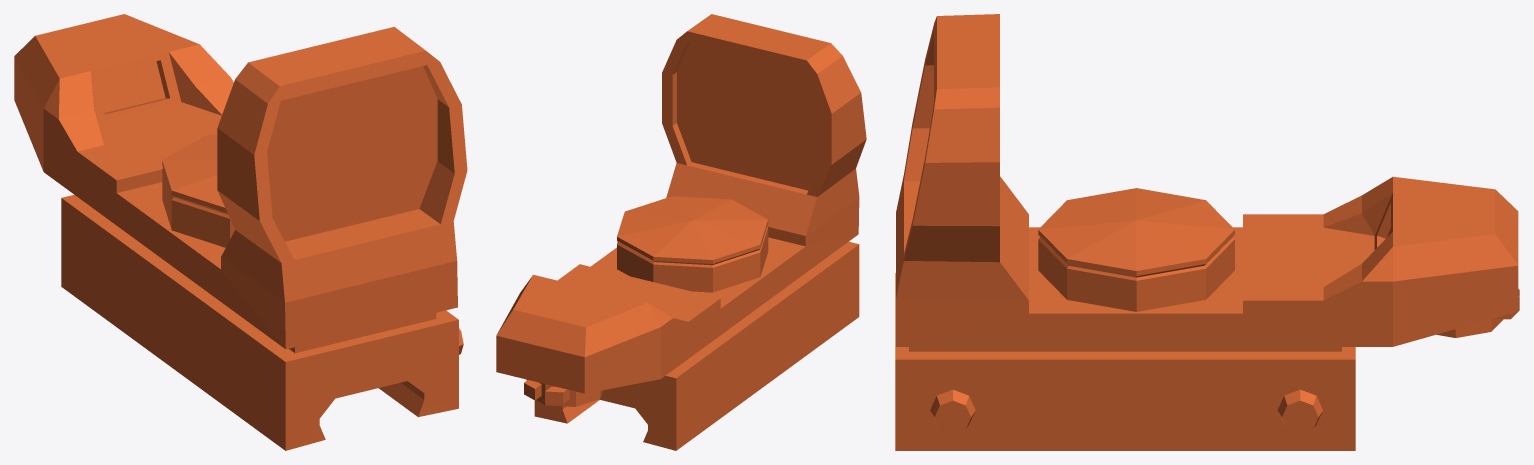
Rendered from acc_Reddot_1.fbx.
The picture shows the model from 3 angles, left to right: view 1: azimuth 30°, elevation 25°; view 2: azimuth 150°, elevation 25°; view 3: azimuth 270°, elevation 25°; orthographic projection. The views are drawn at different scales.
Parts seen in each view (by area): view 1: acc_Reddot; view 2: acc_Reddot; view 3: acc_Reddot.
Boxes of the visible parts, x1,y1,x2,y2 form: acc_Reddot: (14, 14, 467, 450); acc_Reddot: (496, 14, 866, 450); acc_Reddot: (895, 14, 1519, 450).
Bounding box in the file's own units: 19.56 × 30.3 × 48.04.
